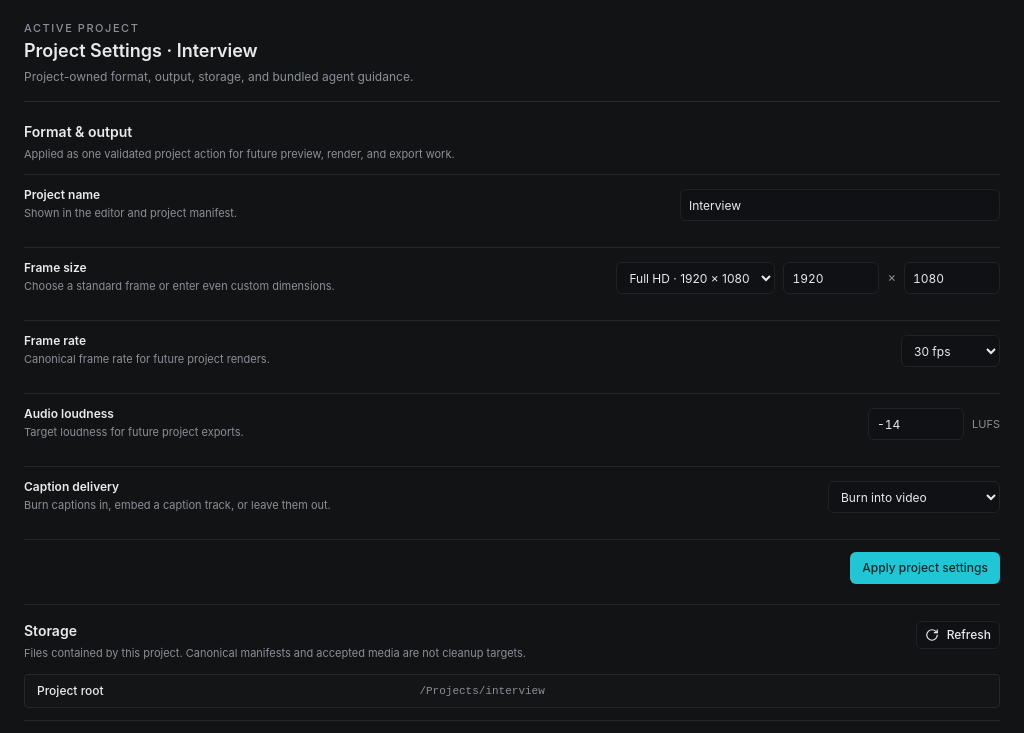
Test: ProjectSettings › rejects odd dimensions without applying the action
Replace the text in the number field named "Project width" with "1919" at (831,278), box x1=783 y1=262 x2=879 y2=294
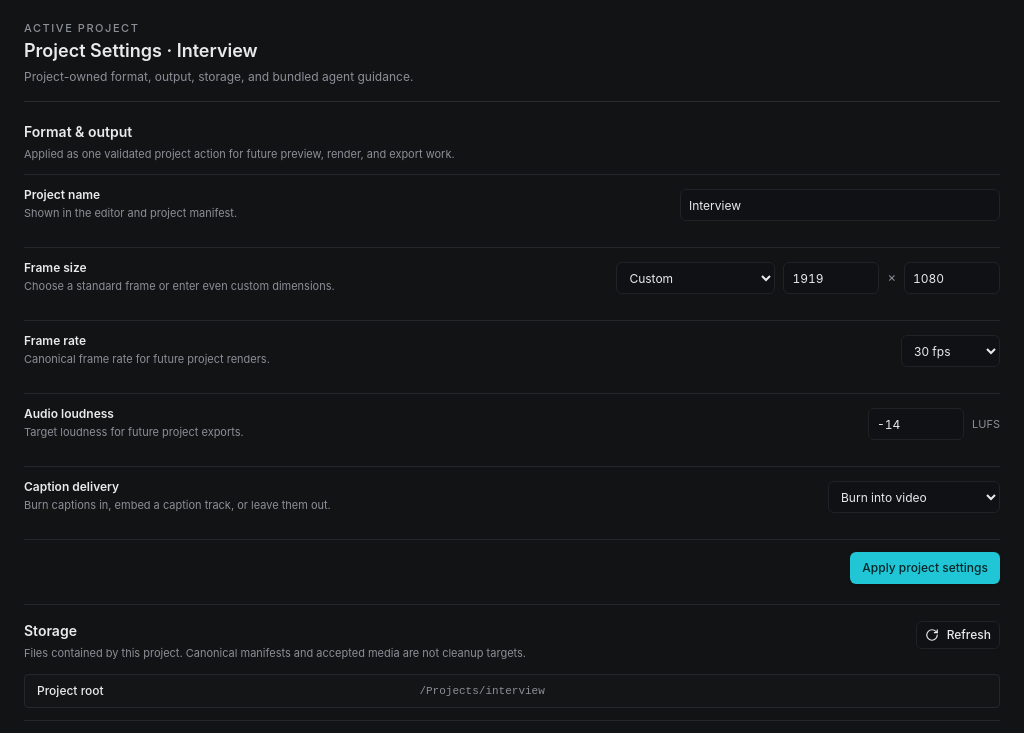
Click the button "Apply project settings" at (925,568), box x1=850 y1=552 x2=1000 y2=584
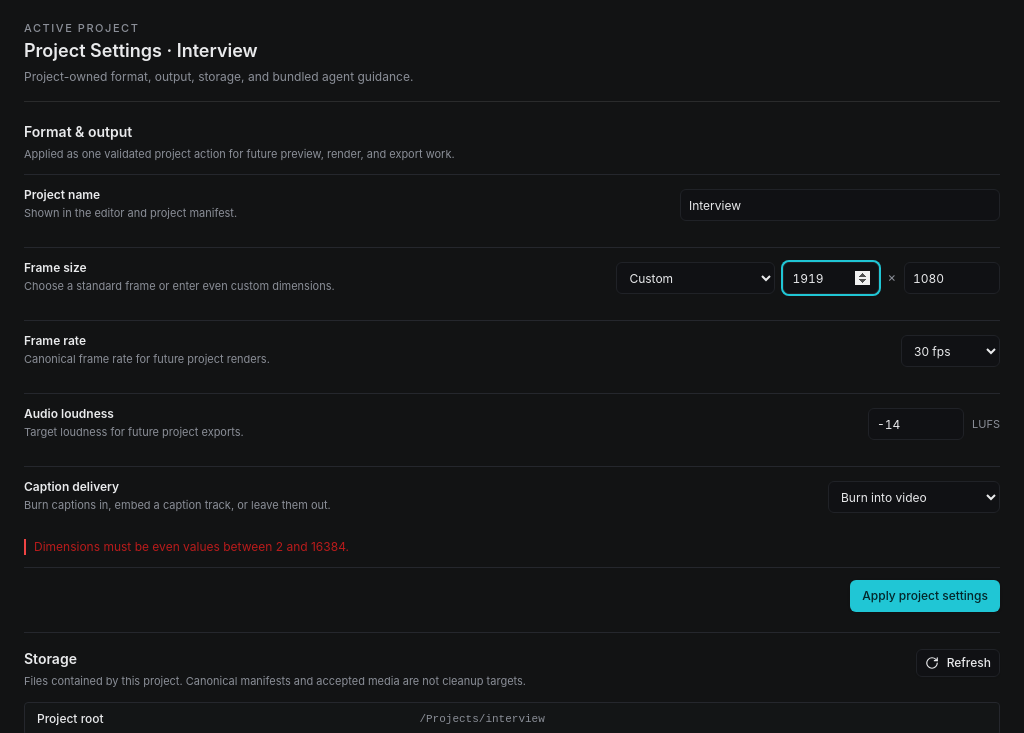
expect the message reads "Dimensions must be even values between 2 and 16384.": met, box x1=34 y1=539 x2=349 y2=554
